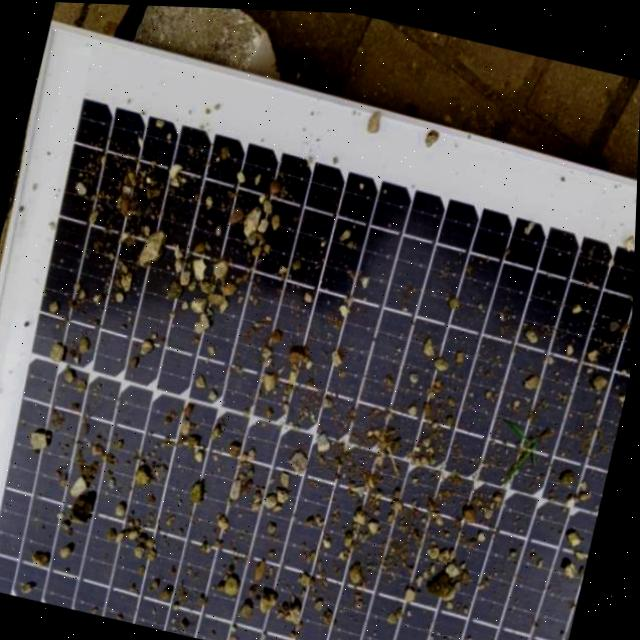Surface Contaminant: (0, 65, 638, 640)
